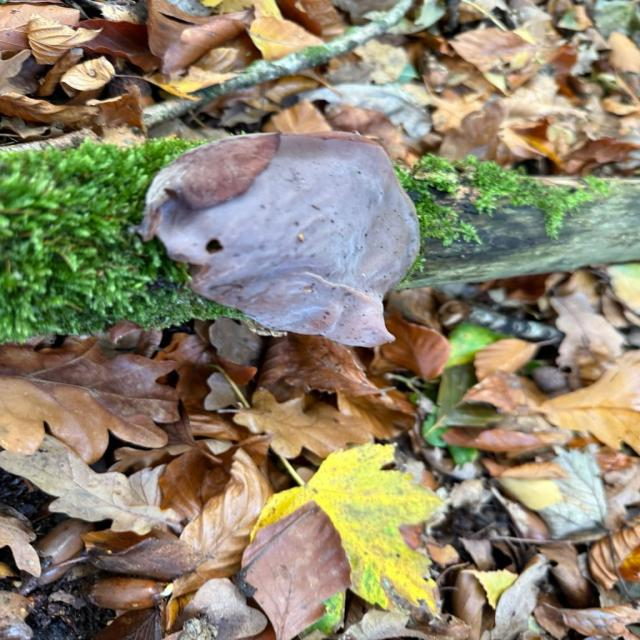Matang: (143, 118, 489, 372)
